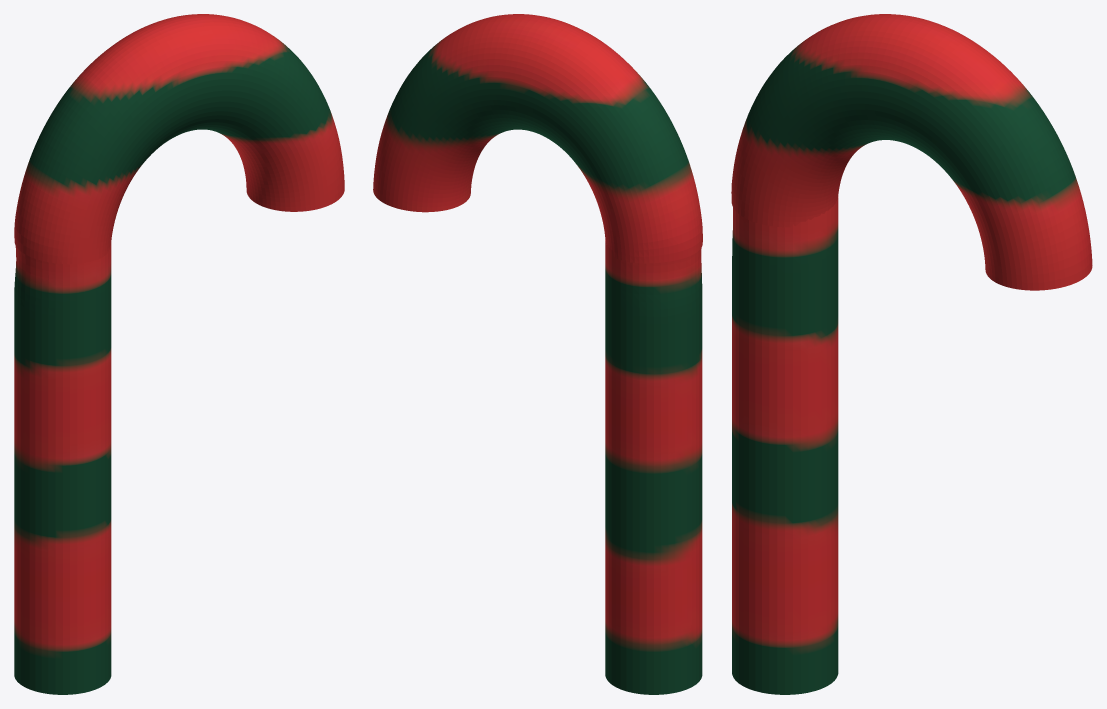
File: decoration_5_1.glb
3 renders of one model, left to right at view 1: azimuth 30°, elevation 25°; view 2: azimuth 150°, elevation 25°; view 3: azimuth 330°, elevation 25°, orthographic. The views are drawn at different scales.
Visible parts, largest first — view 1: Cylinder; view 2: Cylinder; view 3: Cylinder.
Part boxes in pixels (left/top/right/bottom): Cylinder: left=14, top=14, right=344, bottom=694; Cylinder: left=373, top=14, right=702, bottom=694; Cylinder: left=731, top=14, right=1092, bottom=694.
Bounding box in the file's own units: 0.4697 × 0.8856 × 0.1301.
